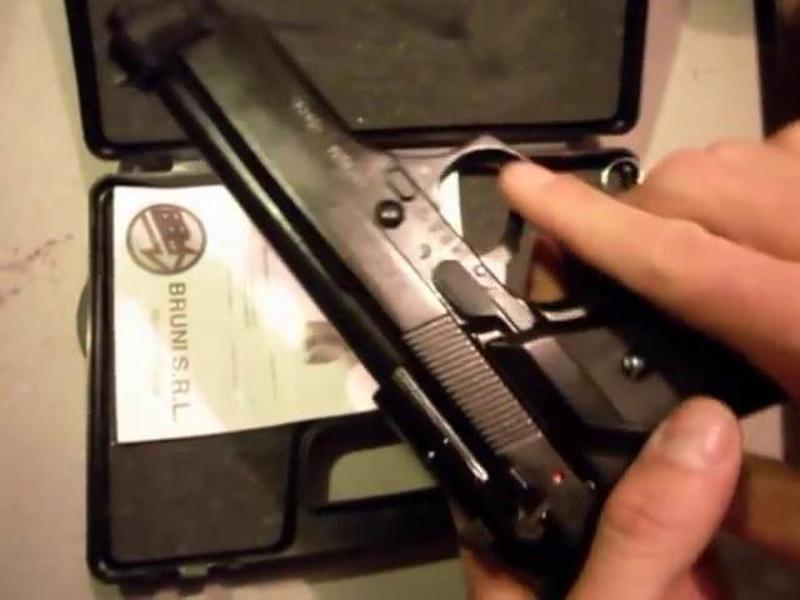Pistola: (137, 4, 800, 558)
